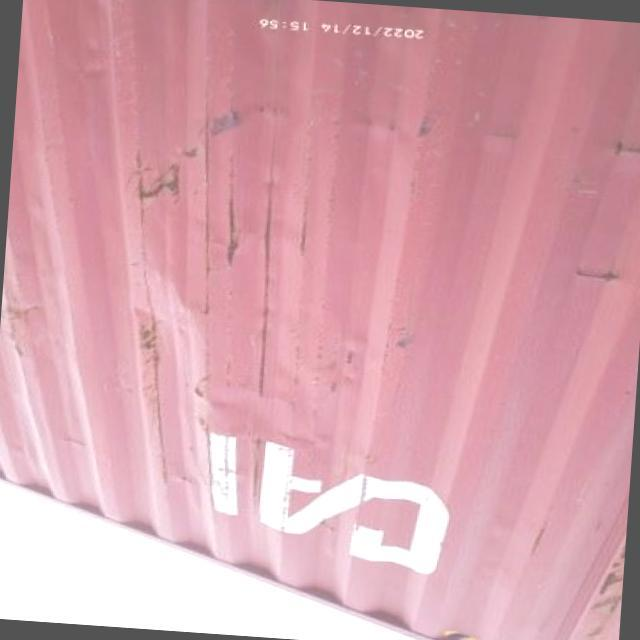dent: (116, 255, 218, 405)
rust: (121, 137, 195, 210)
